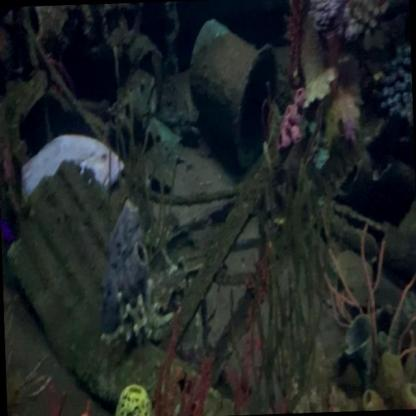fish: (18, 133, 126, 206)
